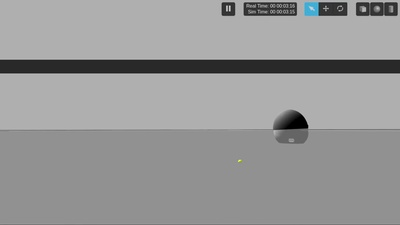mira_robot: (273, 109, 309, 144)
